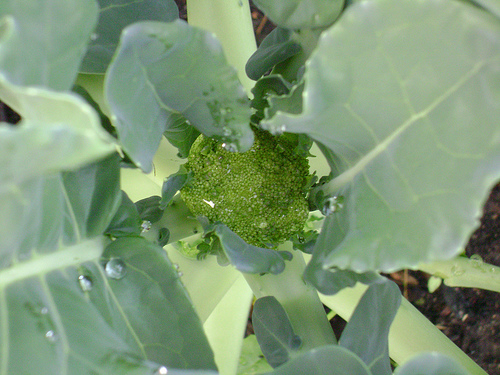broccoli: (167, 120, 332, 272)
